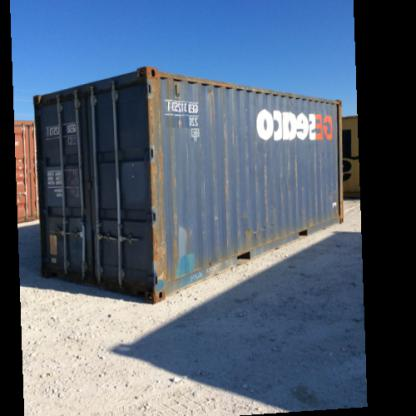Damage: (138, 65, 164, 278), (163, 110, 186, 276), (218, 110, 234, 253), (307, 135, 329, 229), (258, 140, 278, 242), (285, 140, 304, 199), (197, 80, 214, 116), (330, 196, 337, 216)
